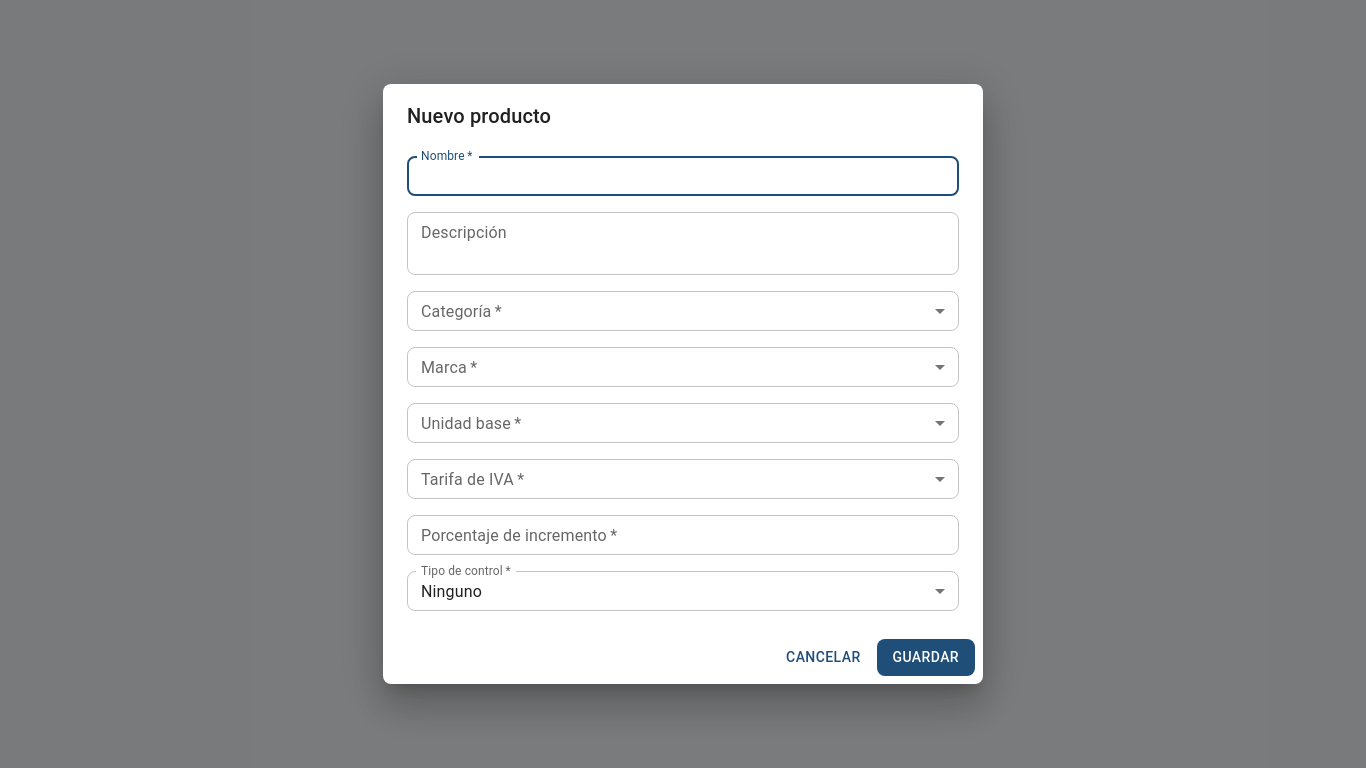
Test: ProductoFormDialog › [CA-RF-PRO-001-2] el plazo de garantía aparece solo con control GARANTIA
This screenshot has width=1366, height=768.
Click the dropdown labelled "Ninguno". click: (452, 591)
box: top-left (421, 582), bottom-right (482, 601)
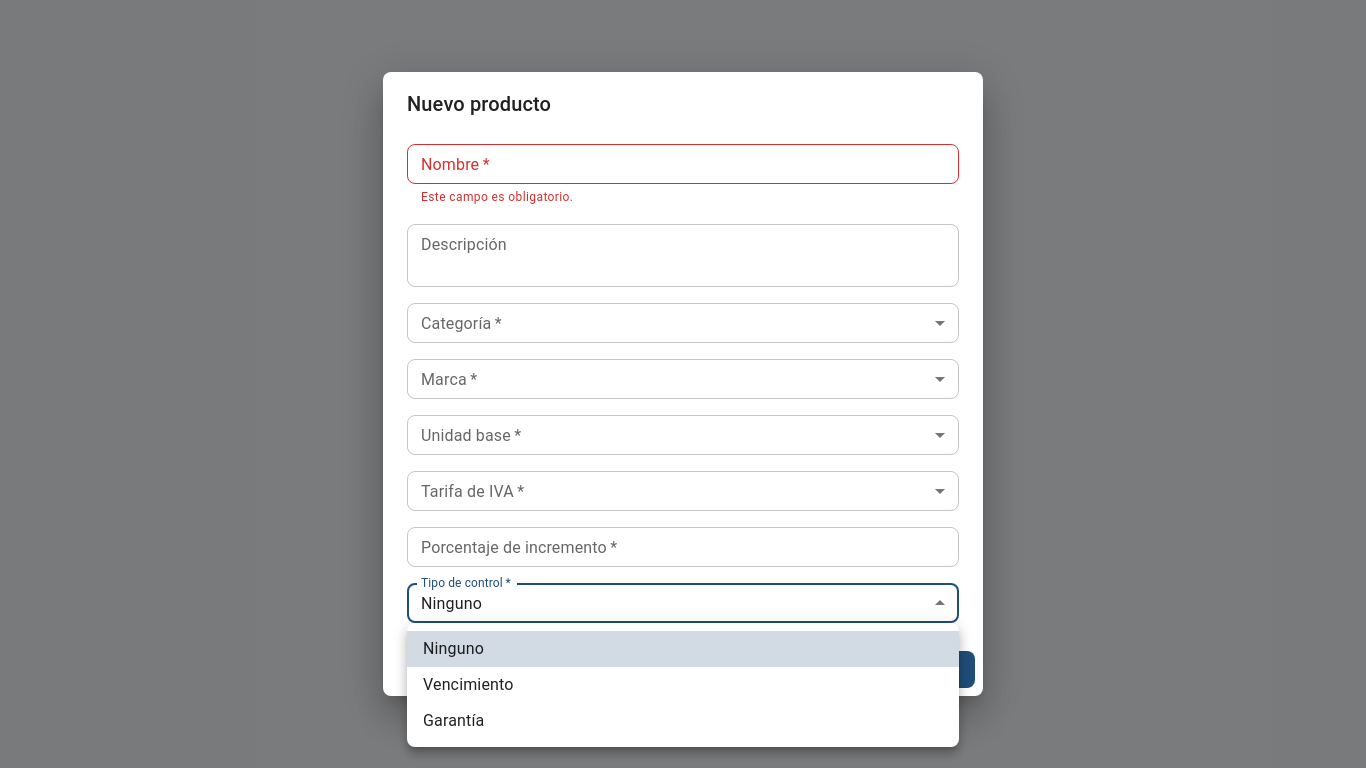
Click the option "Garantía". click: (454, 720)
box: top-left (423, 711), bottom-right (484, 730)
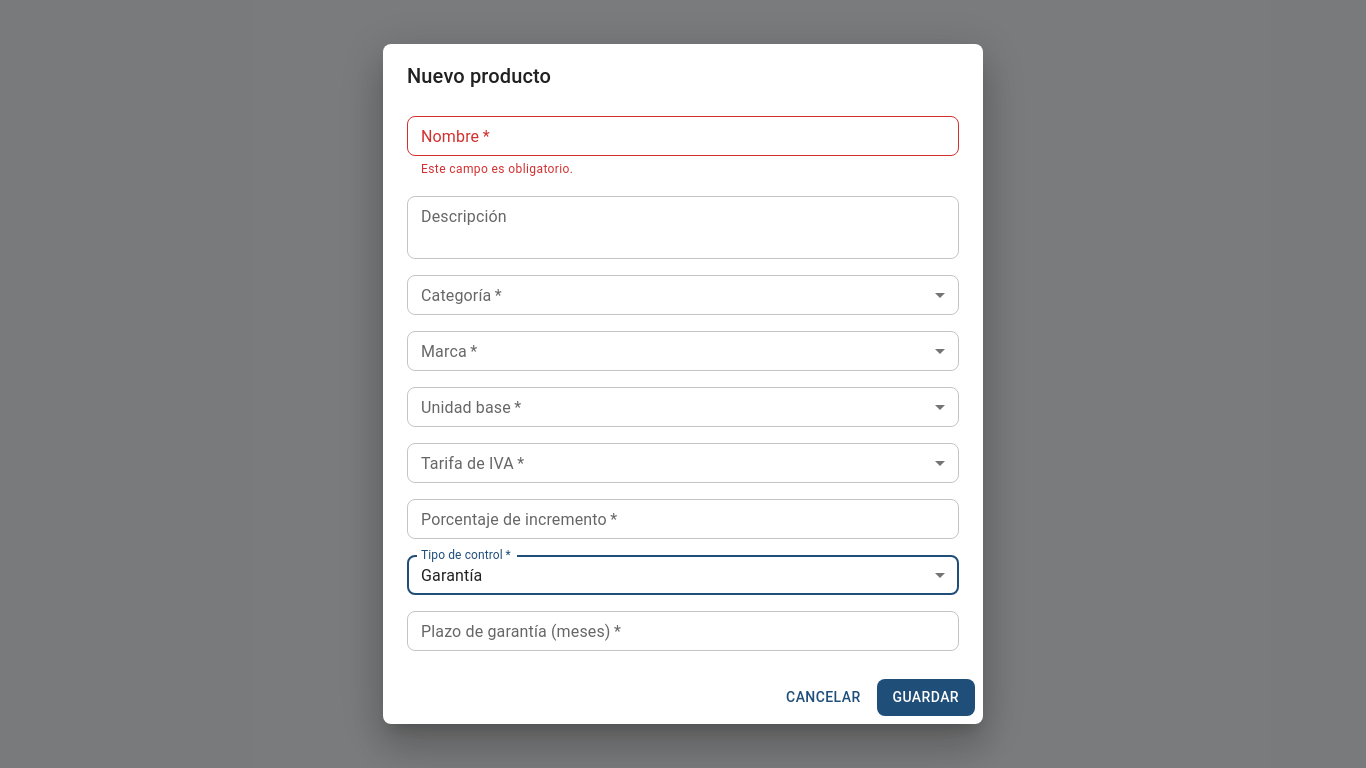
expect the number field with test id "producto-campo-plazo" is shown: met, box top-left (407, 611), bottom-right (959, 651)
Click the dropdown labelled "Garantía". click: (452, 575)
box: top-left (421, 566), bottom-right (482, 585)
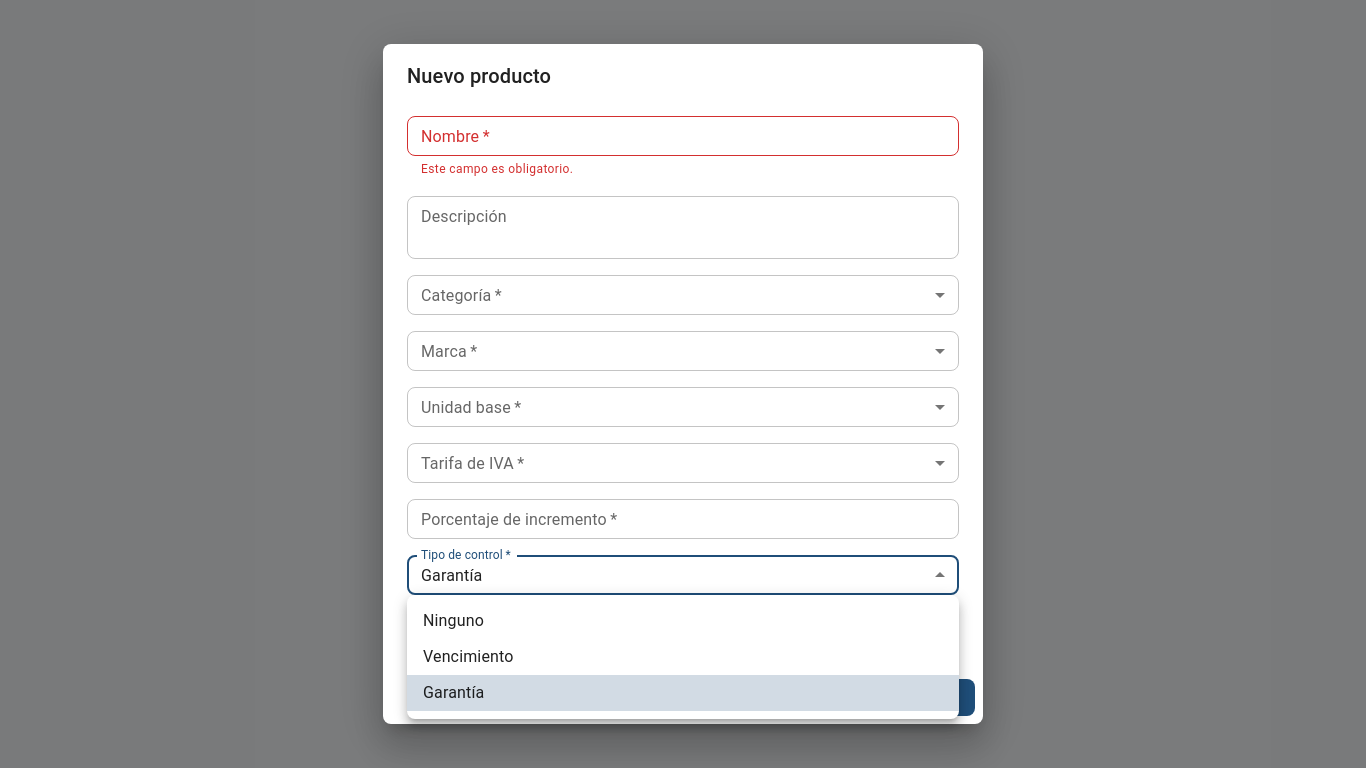
Click the option "Vencimiento". click: (468, 656)
box: top-left (423, 647), bottom-right (514, 666)
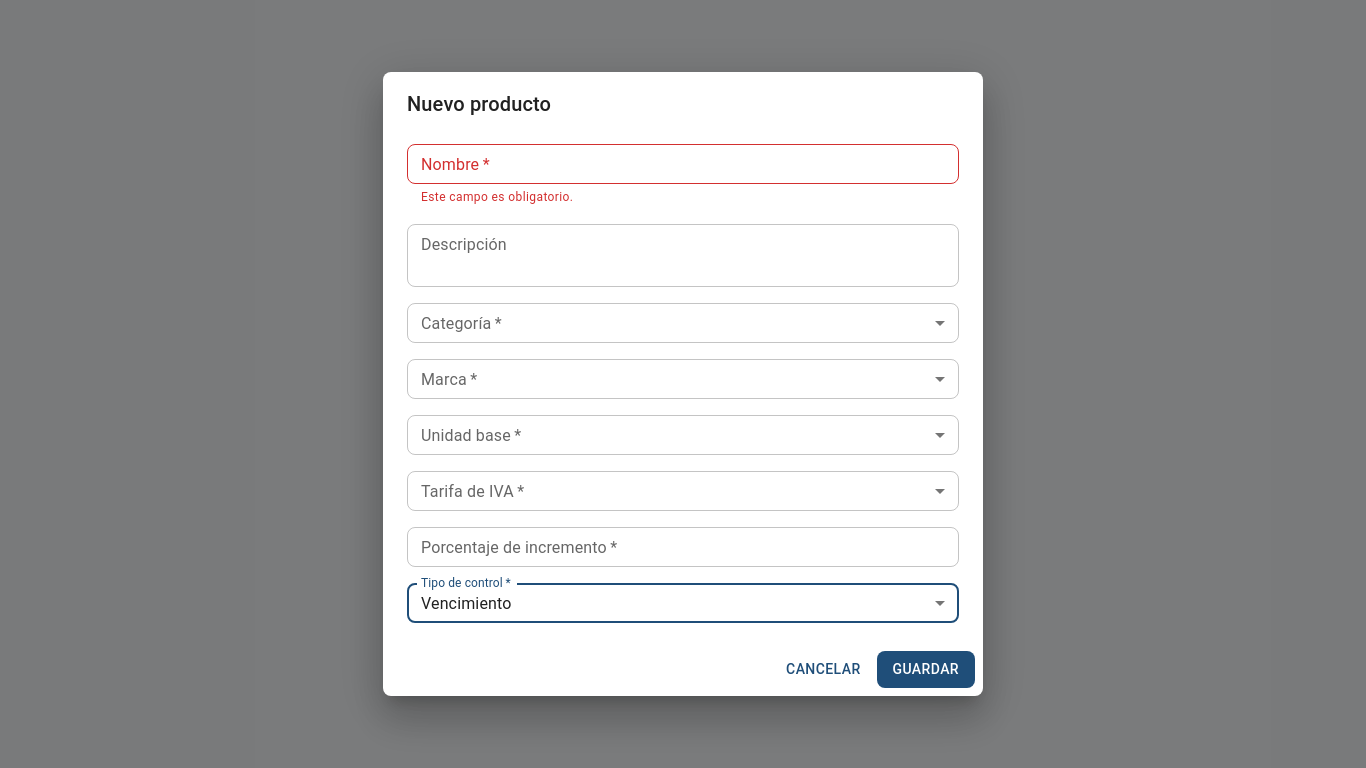
expect the number field with test id "producto-campo-plazo" is gone: met
